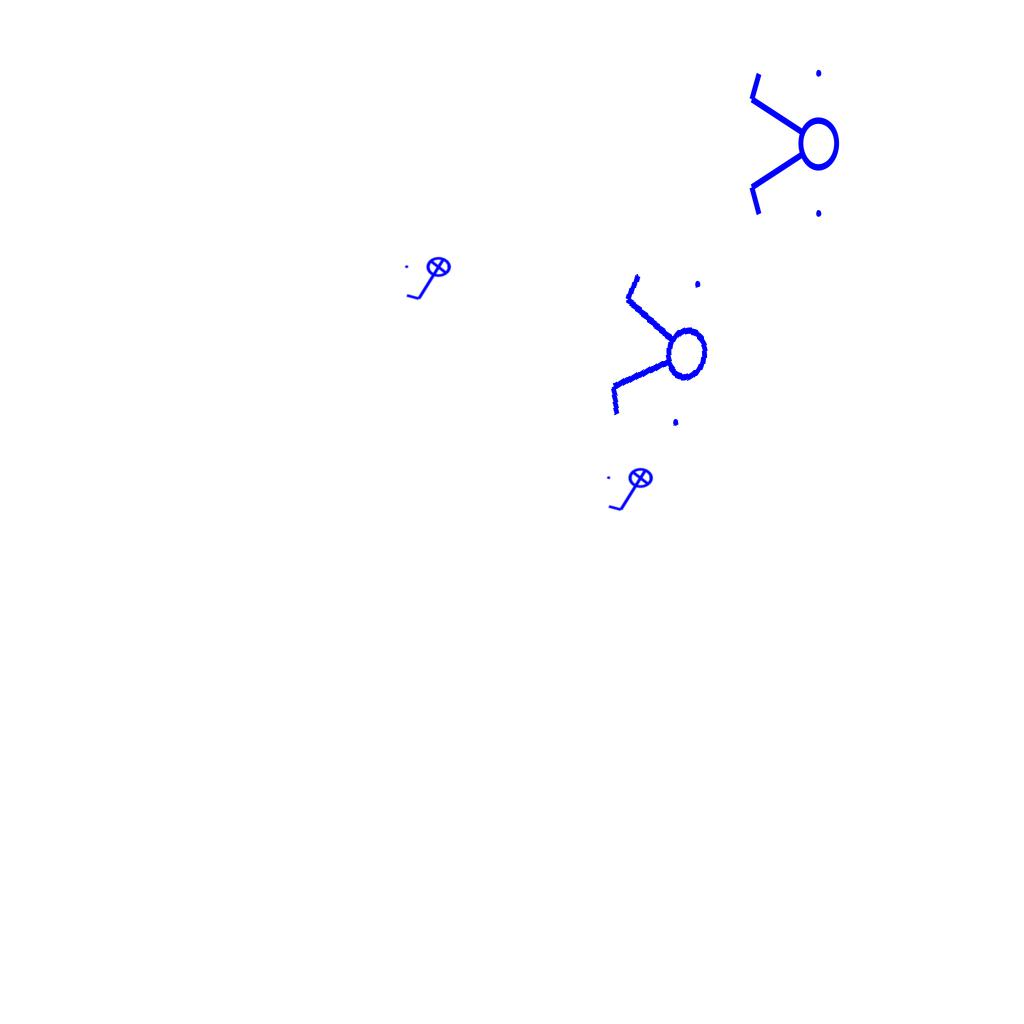Ausschalter_beleuchtet: (604, 467, 660, 515), (402, 256, 458, 304)
Serienschalter: (600, 260, 722, 442), (745, 61, 841, 229)
